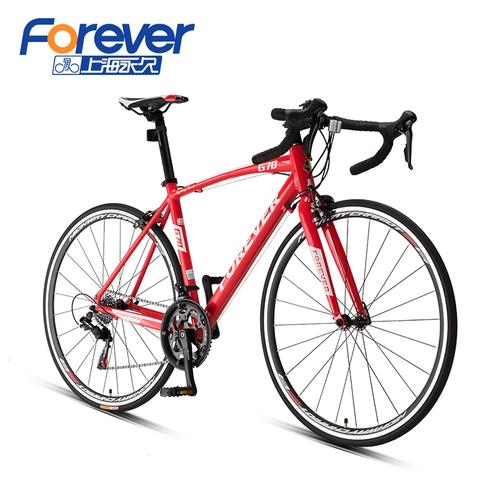单车: (35, 71, 475, 454)
